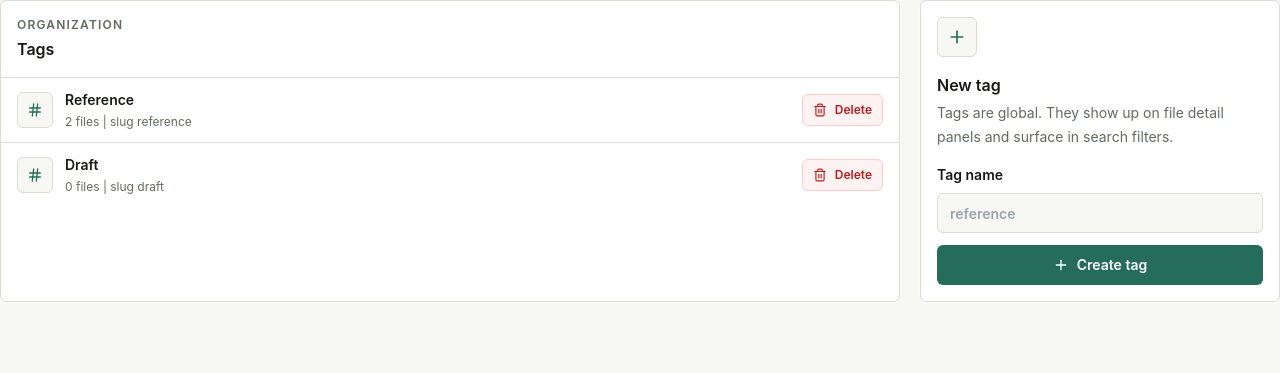
Test: TagManager › deletes an existing tag after confirming
Click the button with aria-label "Delete tag Reference". click: (842, 110)
box: x1=802 y1=94 x2=883 y2=126
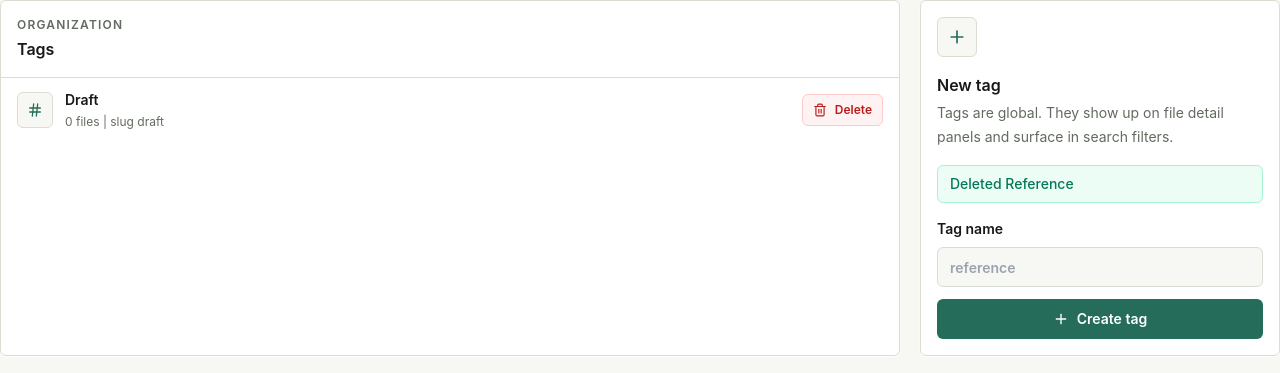
Expected: the message reads "Deleted Reference", x1=950 y1=175 x2=1074 y2=192
